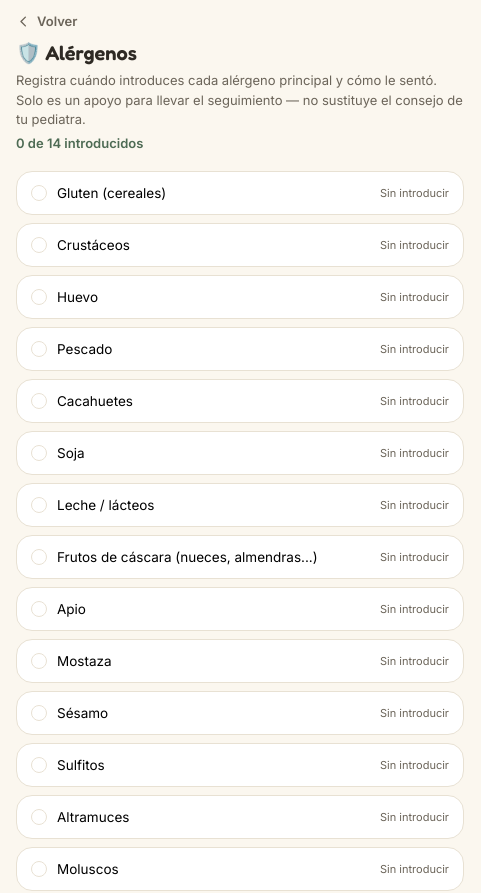
Test: Allergens — marcar como introducido › al abrir un alérgeno sin introducir, aparece el botón de marcarlo
Click the text "Gluten (cereales)" at (99, 193), box [31,185,166,201]
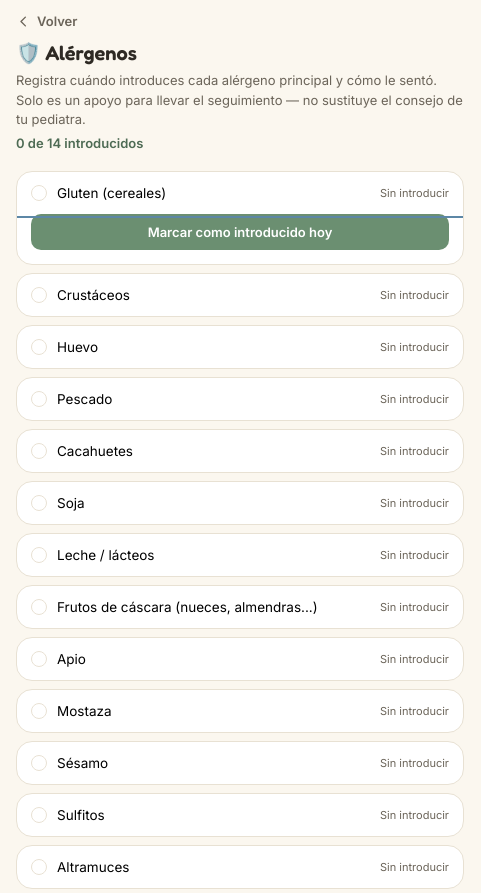
Expected: the button "Marcar como introducido hoy" is shown, [31,214,449,250]
